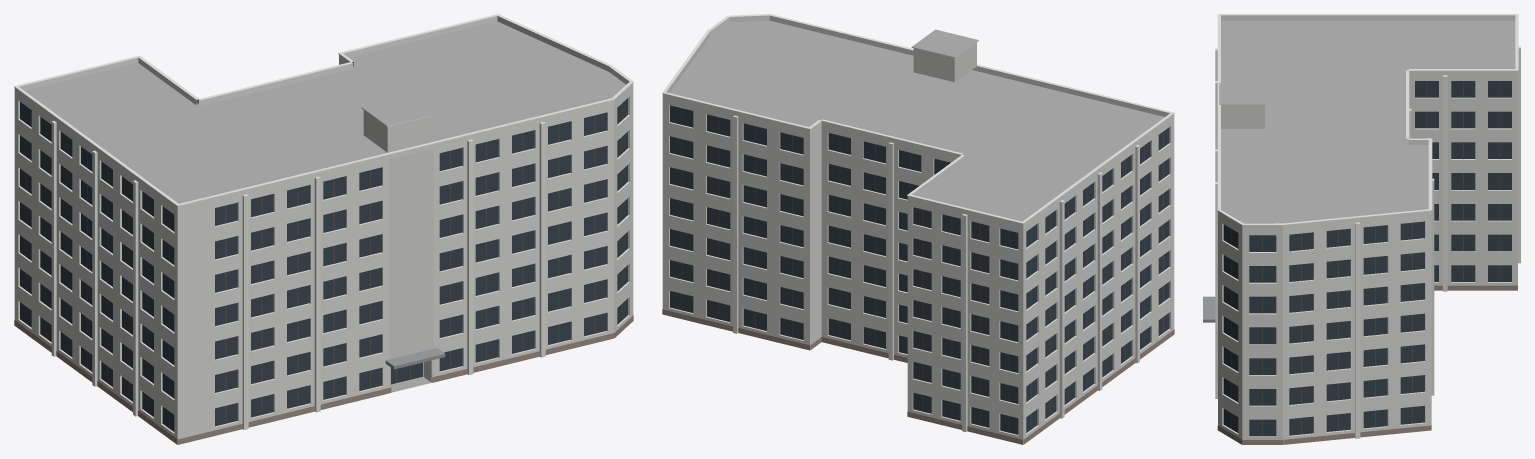
The picture shows the model from 3 angles, left to right: view 1: azimuth 30°, elevation 25°; view 2: azimuth 150°, elevation 25°; view 3: azimuth 270°, elevation 25°; orthographic projection. The views are drawn at different scales.
Parts seen in each view (by area): view 1: medicine1__wall, medicine1__roof, medicine1__glass, medicine1__trim, medicine1__wall2, medicine1__parapet, medicine1__frame, medicine1__base, medicine1__canopy; view 2: medicine1__wall, medicine1__roof, medicine1__glass, medicine1__trim, medicine1__parapet, medicine1__base, medicine1__frame, medicine1__wall2; view 3: medicine1__roof, medicine1__wall, medicine1__glass, medicine1__trim, medicine1__parapet, medicine1__base, medicine1__frame, medicine1__wall2, medicine1__canopy.
Part boxes in pixels (box(x1,y1,x2,y2)): medicine1__wall: box(14, 59, 633, 444); medicine1__roof: box(25, 21, 625, 392); medicine1__glass: box(20, 98, 627, 431); medicine1__trim: box(14, 14, 633, 429); medicine1__wall2: box(363, 110, 433, 387); medicine1__parapet: box(14, 16, 633, 210); medicine1__frame: box(26, 103, 622, 428); medicine1__base: box(14, 315, 633, 444); medicine1__canopy: box(385, 348, 445, 369); medicine1__wall: box(662, 98, 1174, 444); medicine1__roof: box(669, 20, 1164, 221); medicine1__glass: box(670, 105, 1169, 434); medicine1__trim: box(662, 14, 1174, 431); medicine1__parapet: box(662, 15, 1174, 228); medicine1__base: box(662, 309, 1174, 444); medicine1__frame: box(681, 108, 1163, 432); medicine1__wall2: box(913, 43, 976, 82); medicine1__roof: box(1219, 20, 1515, 223); medicine1__wall: box(1218, 75, 1517, 444); medicine1__glass: box(1223, 81, 1511, 436); medicine1__trim: box(1215, 14, 1520, 438); medicine1__parapet: box(1218, 15, 1517, 229); medicine1__base: box(1217, 285, 1517, 444); medicine1__frame: box(1231, 81, 1500, 436); medicine1__wall2: box(1221, 105, 1264, 128); medicine1__canopy: box(1203, 296, 1215, 322).
Bounding box in the file's own units: 53.26 × 28.8 × 33.77.
